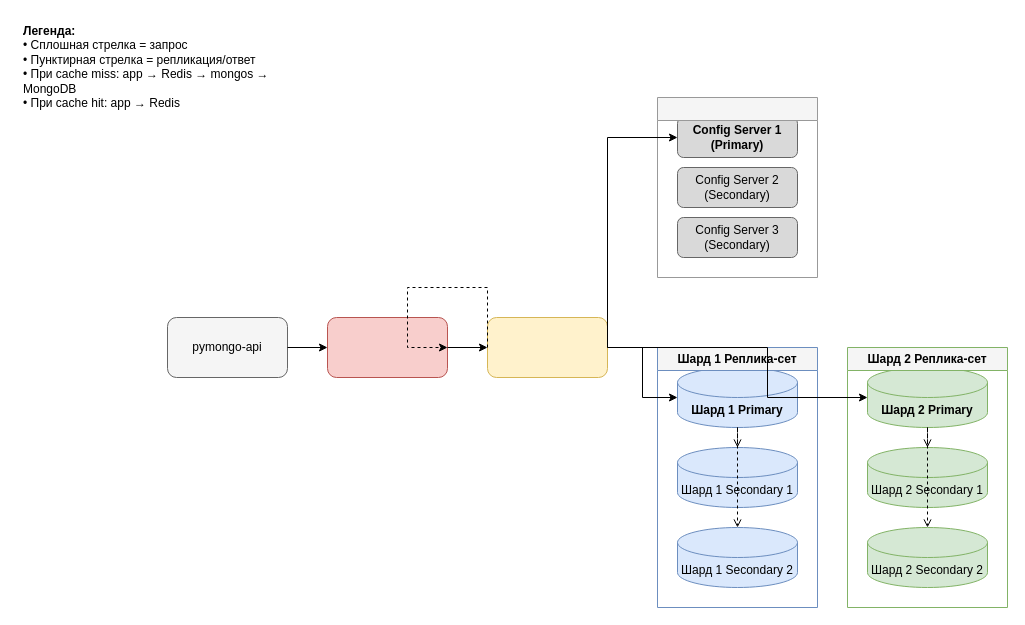
Some shapes in this 1025 by 625 pixel diagram are drawn without their labels. The centre of each missing label's shape, as x and y in pixels:
"mongos (роутер запросов)" goes at [547,347].
"Redis (Кеш)" goes at [387,347].
"Конфиг-реплика-сет" goes at [737,187].
